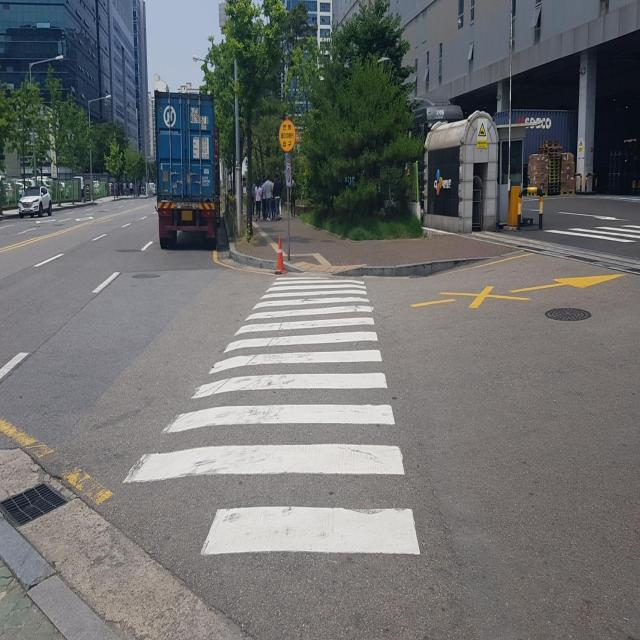횡단보도: (120, 273, 424, 560), (546, 224, 640, 247)
